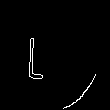L_N: (46, 29, 64, 81)
